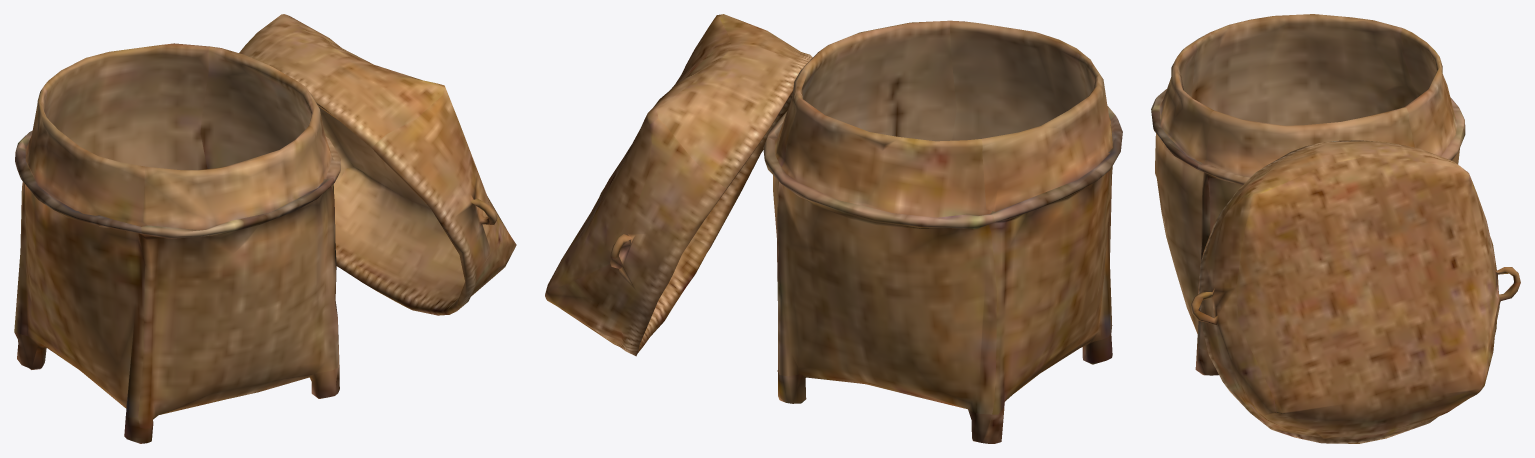
The model's file is basket-wicker.glb.
3 renders of one model, left to right at view 1: azimuth 30°, elevation 25°; view 2: azimuth 150°, elevation 25°; view 3: azimuth 270°, elevation 25°, orthographic. The views are drawn at different scales.
Parts seen in each view (by area): view 1: wicker_basket_02_base, wicker_basket_02_lid; view 2: wicker_basket_02_base, wicker_basket_02_lid; view 3: wicker_basket_02_lid, wicker_basket_02_base.
Part boxes in pixels (x1,y1,x2,y2): wicker_basket_02_base: [14, 43, 340, 443]; wicker_basket_02_lid: [239, 14, 516, 315]; wicker_basket_02_base: [763, 20, 1122, 443]; wicker_basket_02_lid: [545, 14, 812, 356]; wicker_basket_02_lid: [1190, 140, 1520, 443]; wicker_basket_02_base: [1151, 14, 1465, 375].
Size of the model in its own units: 0.3467 by 0.2004 by 0.2541.
Materials: 1 (1 with a texture image).
